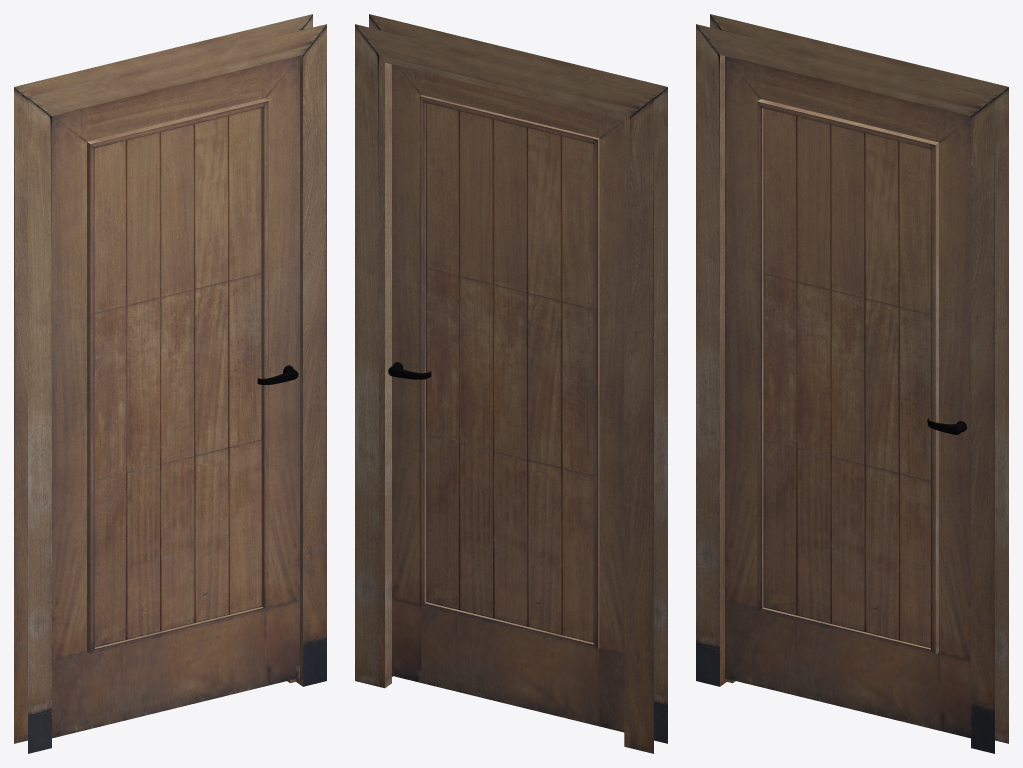
File: singelo_door.gltf
3 renders of one model, left to right at view 1: azimuth 30°, elevation 25°; view 2: azimuth 150°, elevation 25°; view 3: azimuth 330°, elevation 25°, orthographic.
Parts seen in each view (by area): view 1: Door, DoorFrame; view 2: Door, DoorFrame; view 3: Door, DoorFrame.
Boxes of the visible parts, box(x1,y1,x2,y2) form: Door: box(52, 55, 299, 738); DoorFrame: box(14, 14, 326, 753); Door: box(388, 64, 624, 732); DoorFrame: box(355, 14, 667, 753); Door: box(725, 56, 970, 738); DoorFrame: box(696, 14, 1008, 753).
Bounding box in the file's own units: 1 × 2.1 × 0.1038.
1 material, 1 textured.
